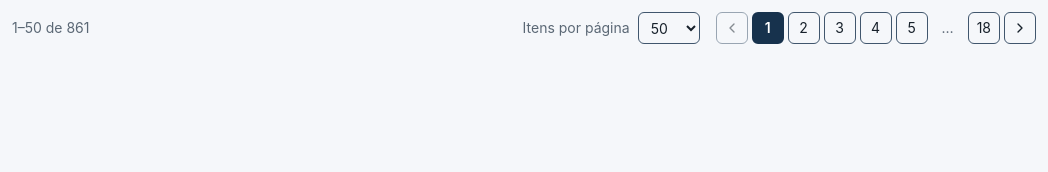
Test case: PaginationFooter › returns focus to the ellipsis when the jump field is dismissed
Click the button named "Ir para uma página específica" at (948, 28), box top-left (932, 12), bottom-right (964, 44)
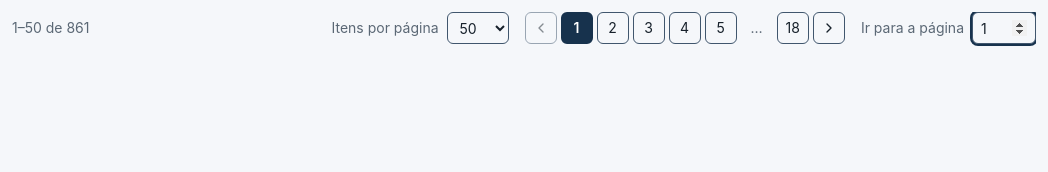
Press Escape in the number field labelled "Ir para a página", box top-left (972, 12), bottom-right (1036, 44)
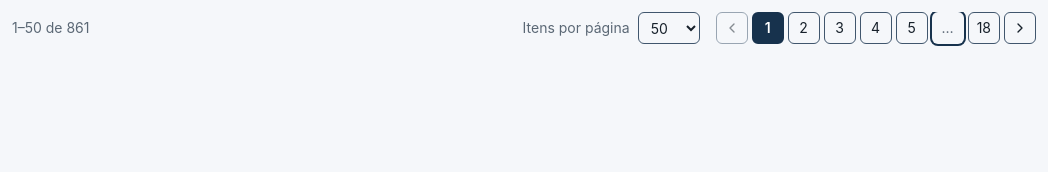
expect the label labelled "Ir para a página" is gone: met
